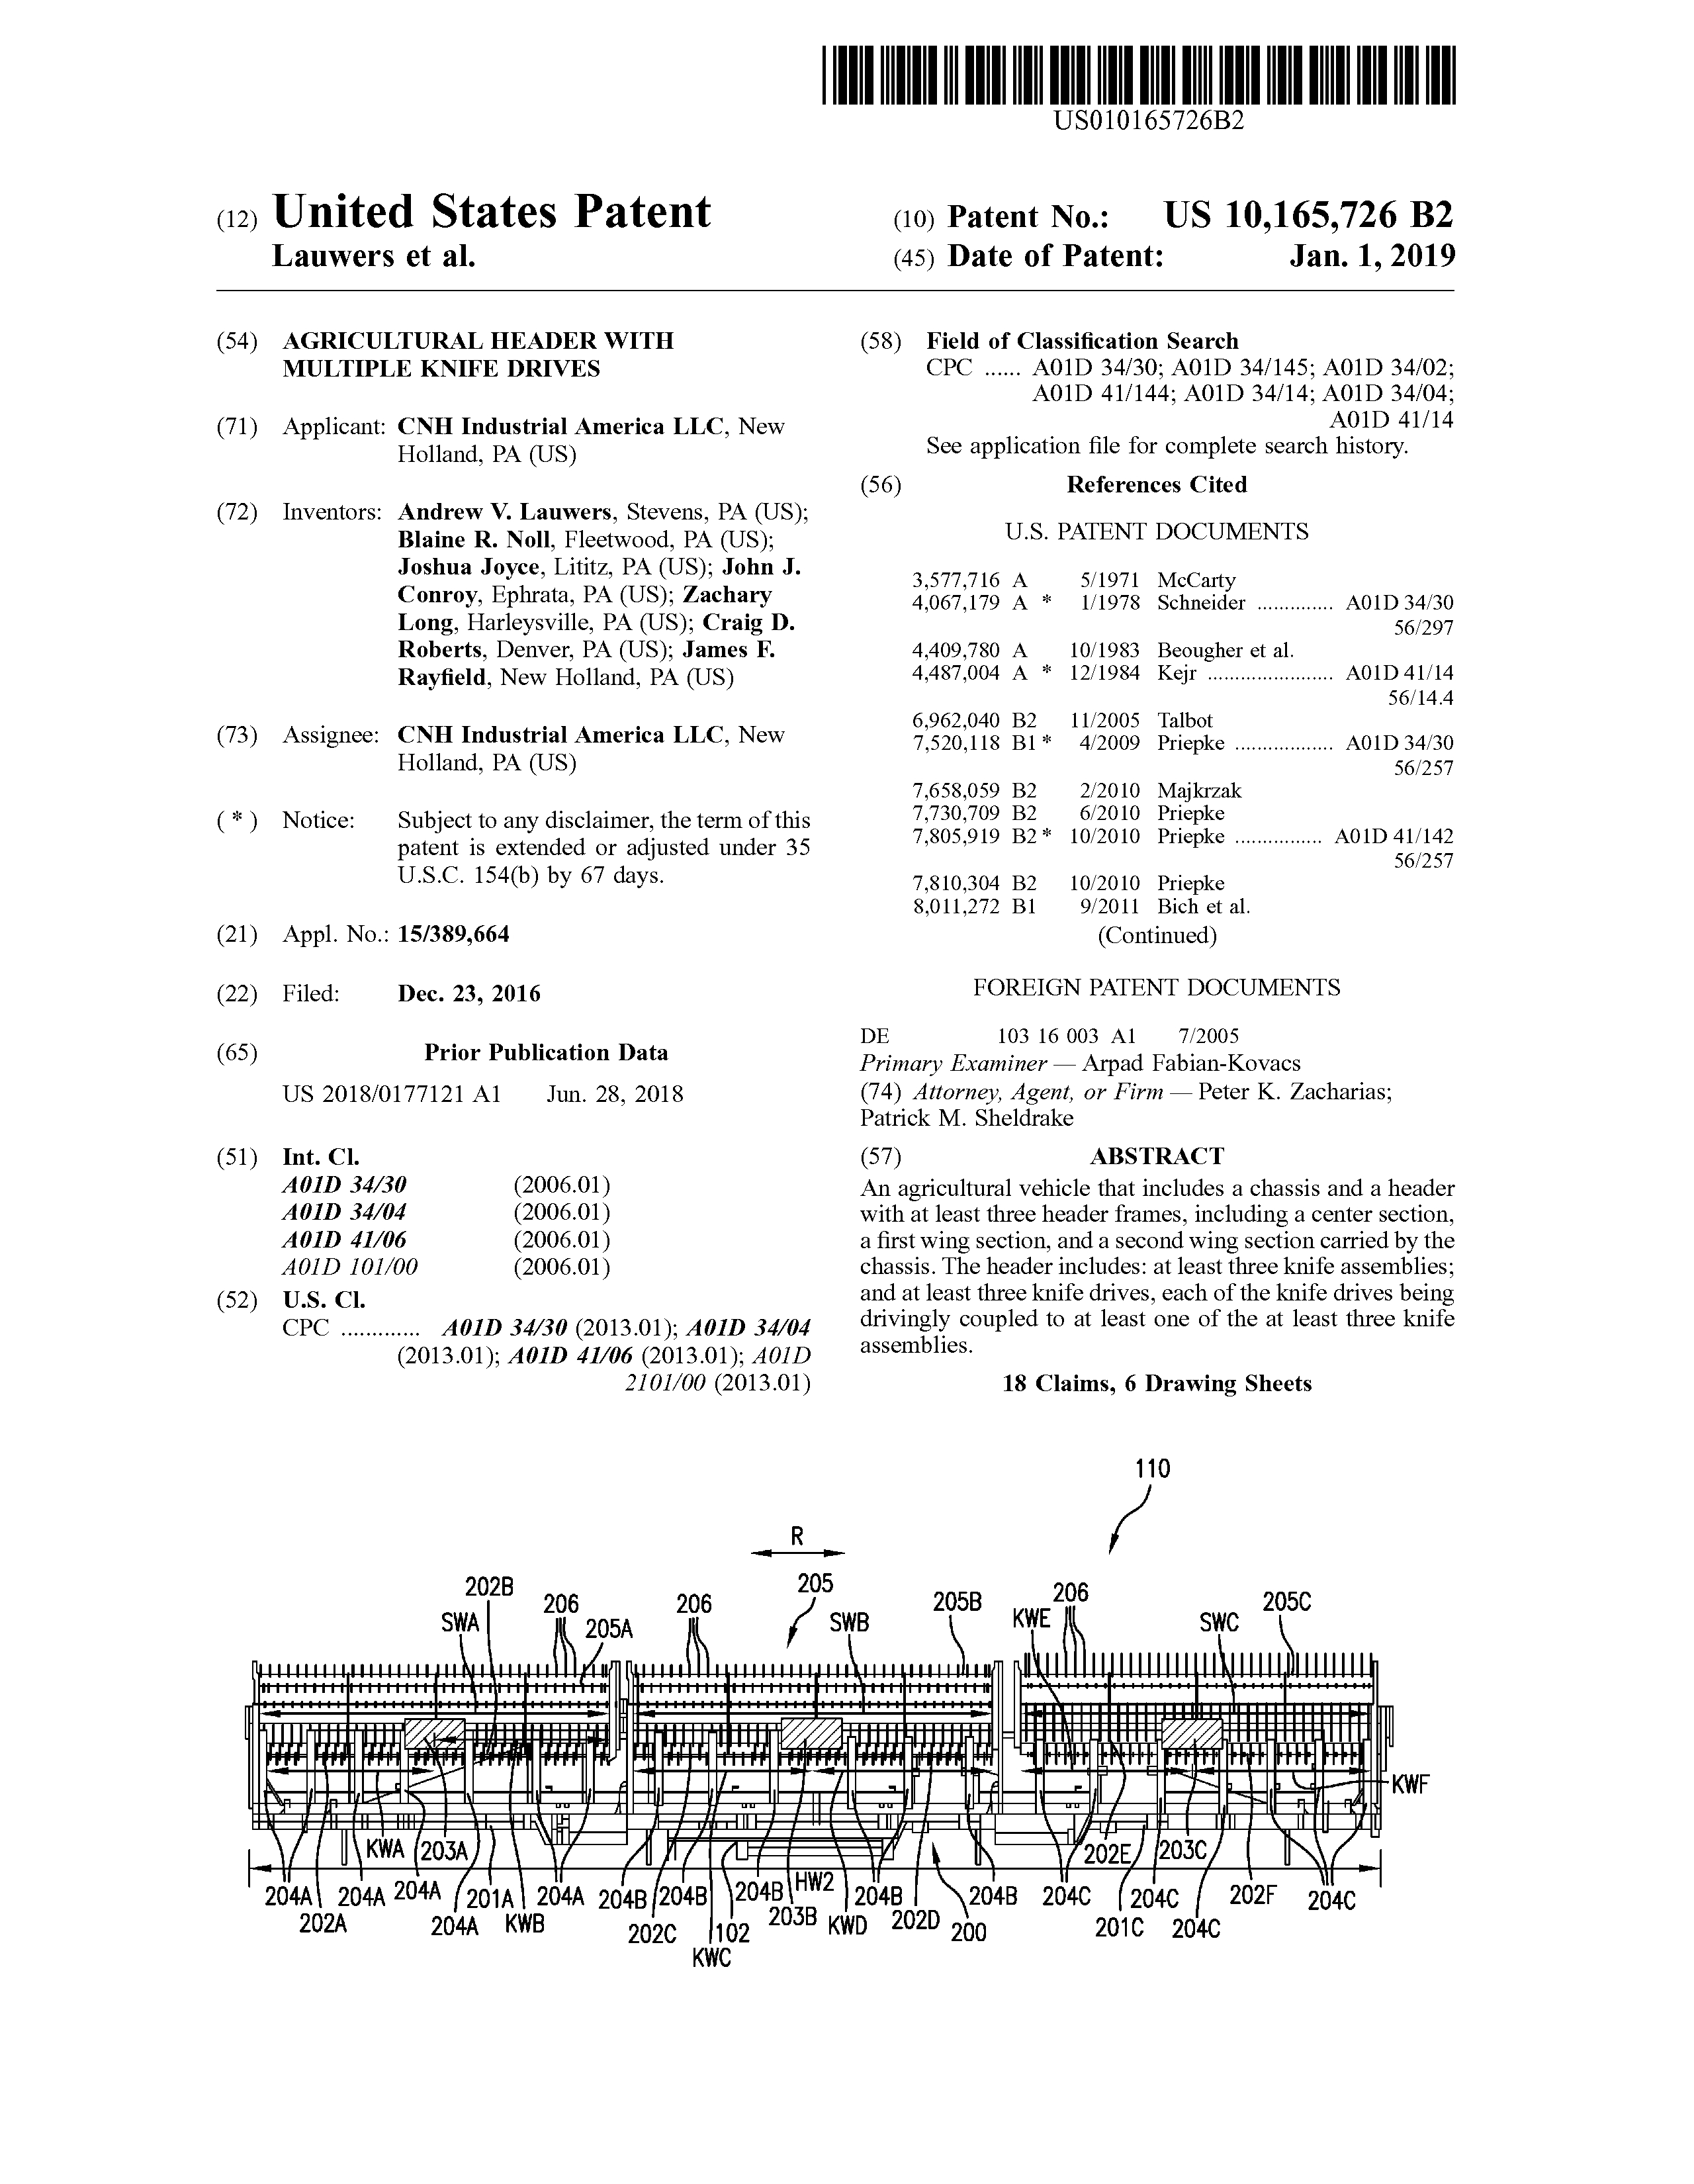patent image: (206, 1441, 1490, 1982)
